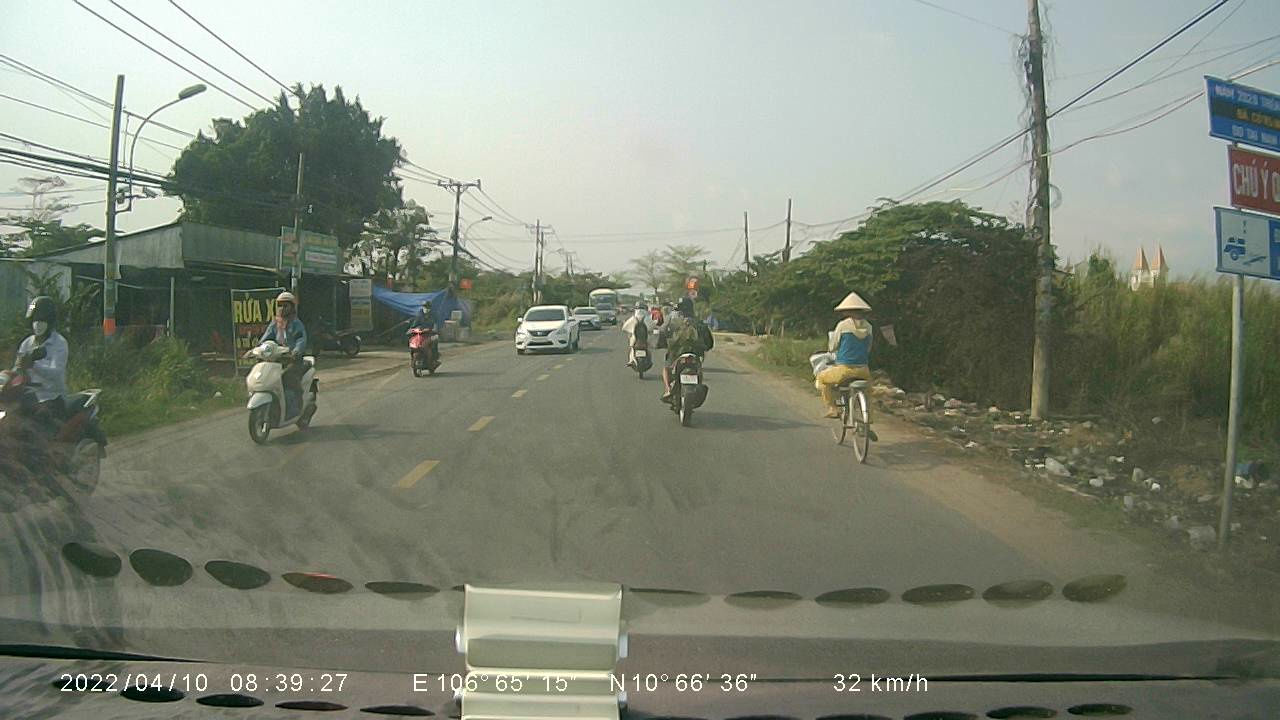Bien khac: (1211, 203, 1275, 282)
